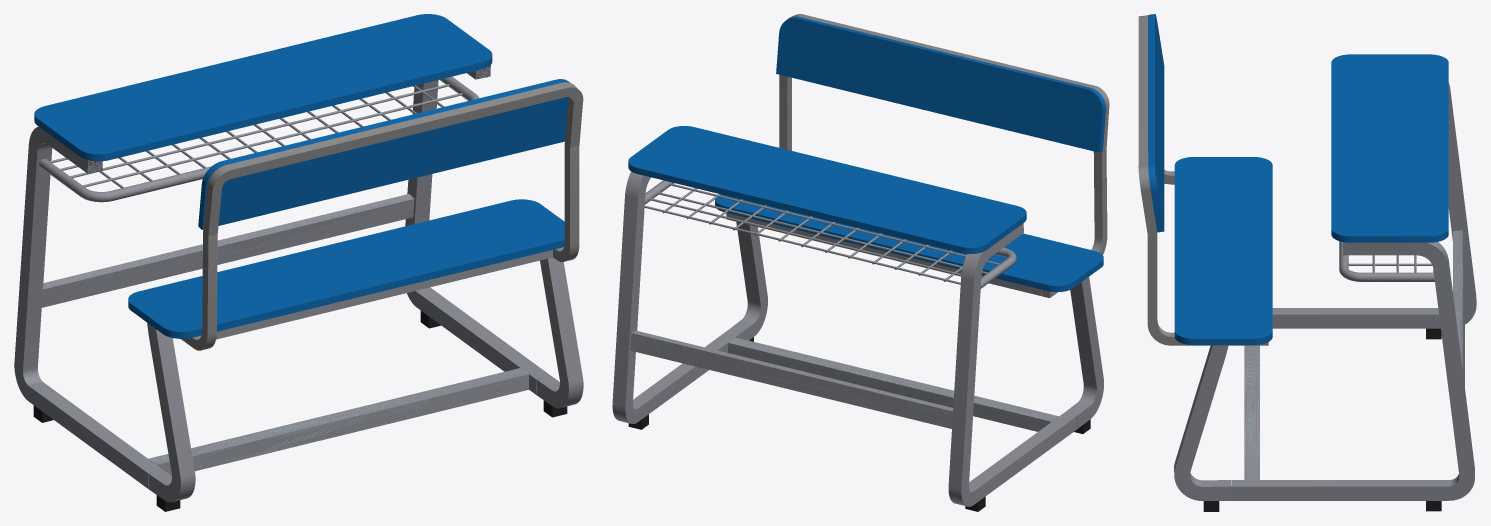
3 views of the same model, side by side, from view 1: azimuth 30°, elevation 25°; view 2: azimuth 150°, elevation 25°; view 3: azimuth 270°, elevation 25° (orthographic). The views are drawn at different scales.
Visible parts, largest first — view 1: group_3, group_0, group_30, SketchUp (×2), group_5, group_4, group_29, group_28, group_2, group_6, group_10, group_9; view 2: group_3, group_30, SketchUp (×2), group_5, group_4, group_0, group_29, group_1, group_28, group_7, group_10, group_8 (+2 smaller); view 3: group_3, group_0, group_4, group_5, SketchUp (×2), group_30, group_28, group_29, group_6.
Boxes of the visible parts, bbox=[...] form: group_3: bbox=[34, 14, 492, 161]; group_0: bbox=[128, 199, 564, 338]; group_30: bbox=[198, 79, 569, 229]; SketchUp (×2): bbox=[41, 194, 528, 475]; group_5: bbox=[14, 126, 195, 502]; group_4: bbox=[405, 71, 583, 408]; group_29: bbox=[181, 83, 567, 350]; group_28: bbox=[553, 82, 583, 261]; group_2: bbox=[216, 250, 552, 339]; group_6: bbox=[39, 76, 479, 202]; group_10: bbox=[82, 93, 462, 187]; group_9: bbox=[70, 84, 449, 178]; group_3: bbox=[628, 126, 1026, 253]; group_30: bbox=[776, 16, 1105, 152]; SketchUp (×2): bbox=[630, 330, 1058, 431]; group_5: bbox=[948, 223, 1103, 506]; group_4: bbox=[612, 171, 767, 423]; group_0: bbox=[715, 194, 1103, 292]; group_29: bbox=[798, 14, 1109, 298]; group_1: bbox=[734, 214, 1041, 295]; group_28: bbox=[726, 14, 802, 220]; group_7: bbox=[644, 205, 960, 284]; group_10: bbox=[669, 183, 999, 265]; group_8: bbox=[649, 198, 961, 275]; group_3: bbox=[1331, 54, 1448, 242]; group_0: bbox=[1174, 157, 1272, 345]; group_4: bbox=[1174, 242, 1474, 500]; group_5: bbox=[1272, 83, 1476, 328]; SketchUp (×2): bbox=[1244, 230, 1464, 479]; group_30: bbox=[1148, 14, 1164, 232]; group_28: bbox=[1138, 166, 1268, 345]; group_29: bbox=[1138, 15, 1174, 184]; group_6: bbox=[1339, 241, 1434, 281].
Bounding box in the file's own units: 43.61 × 34 × 36.72.
